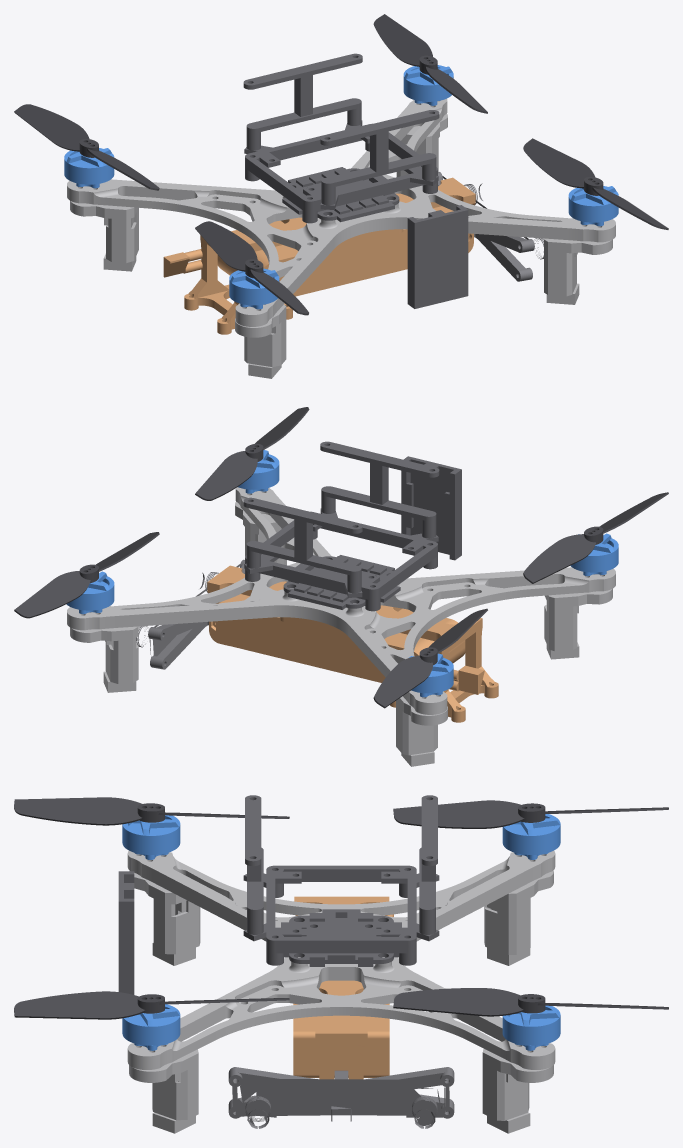
Rendered from waar-01.glb.
3 views of the same model, one above another, from view 1: azimuth 30°, elevation 25°; view 2: azimuth 150°, elevation 25°; view 3: azimuth 270°, elevation 25° (orthographic). The views are drawn at different scales.
Parts seen in each view (by area): view 1: NAUO1, NAUO65, NAUO66, NAUO63, NAUO3, NAUO17, NAUO57, NAUO30, NAUO44, NAUO2, NAUO6, NAUO50 (+7 smaller); view 2: NAUO1, NAUO65, NAUO63, NAUO66, NAUO3, NAUO44, NAUO30, NAUO57, NAUO17, NAUO2, NAUO37, NAUO22 (+7 smaller); view 3: NAUO1, NAUO65, NAUO64, NAUO17, NAUO30, NAUO44, NAUO3, NAUO2, NAUO63, NAUO57, NAUO22, NAUO50 (+12 smaller).
Boxes of the visible parts, left/top/right/bottom form: NAUO1: left=67, top=98, right=615, bottom=326; NAUO65: left=243, top=53, right=439, bottom=223; NAUO66: left=407, top=205, right=468, bottom=308; NAUO63: left=163, top=193, right=453, bottom=296; NAUO3: left=184, top=177, right=475, bottom=334; NAUO17: left=523, top=138, right=668, bottom=229; NAUO57: left=14, top=104, right=159, bottom=190; NAUO30: left=373, top=14, right=487, bottom=113; NAUO44: left=195, top=221, right=308, bottom=315; NAUO2: left=282, top=167, right=399, bottom=222; NAUO6: left=544, top=238, right=612, bottom=296; NAUO50: left=70, top=201, right=138, bottom=263; NAUO1: left=67, top=487, right=615, bottom=714; NAUO65: left=243, top=441, right=439, bottom=611; NAUO63: left=216, top=581, right=484, bottom=694; NAUO66: left=401, top=456, right=461, bottom=560; NAUO3: left=207, top=565, right=498, bottom=722; NAUO44: left=523, top=492, right=668, bottom=583; NAUO30: left=14, top=532, right=159, bottom=618; NAUO57: left=373, top=608, right=487, bottom=708; NAUO17: left=195, top=407, right=309, bottom=500; NAUO2: left=283, top=555, right=400, bottom=609; NAUO37: left=544, top=588, right=612, bottom=651; NAUO22: left=70, top=626, right=138, bottom=683; NAUO1: left=127, top=850, right=555, bottom=1069; NAUO65: left=243, top=795, right=439, bottom=965; NAUO64: left=232, top=1078, right=449, bottom=1128; NAUO17: left=14, top=991, right=289, bottom=1019; NAUO30: left=393, top=988, right=668, bottom=1016; NAUO44: left=14, top=797, right=289, bottom=825; NAUO3: left=294, top=896, right=388, bottom=1079; NAUO2: left=281, top=909, right=401, bottom=966; NAUO63: left=293, top=897, right=393, bottom=1077; NAUO57: left=393, top=800, right=668, bottom=828; NAUO22: left=482, top=1049, right=553, bottom=1120; NAUO50: left=484, top=870, right=553, bottom=954.
Size of the model in its own units: 2.49 by 1.18 by 3.2.
